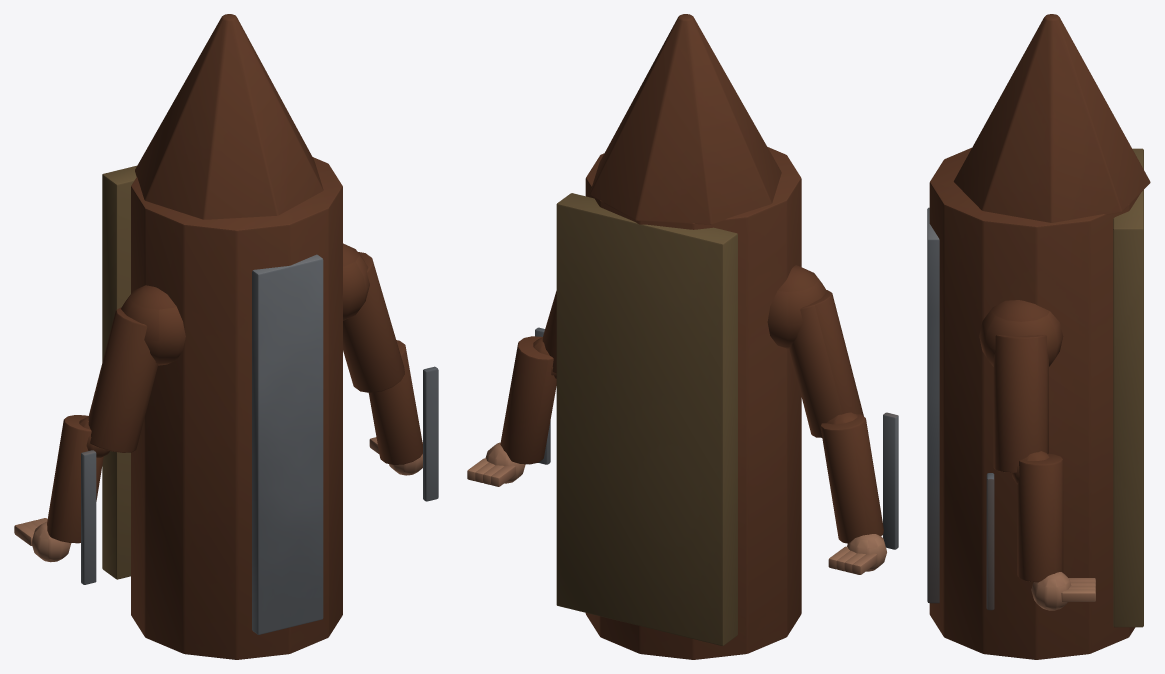
The model's file is unit_royal_spymaster.fbx.
The picture shows the model from 3 angles, left to right: view 1: azimuth 30°, elevation 25°; view 2: azimuth 150°, elevation 25°; view 3: azimuth 270°, elevation 25°; orthographic projection.
Parts seen in each view (by area): view 1: unit_royal_spymaster; view 2: unit_royal_spymaster; view 3: unit_royal_spymaster.
Part boxes in pixels (bbox=[...]): unit_royal_spymaster: bbox=[14, 14, 438, 659]; unit_royal_spymaster: bbox=[467, 14, 898, 659]; unit_royal_spymaster: bbox=[927, 14, 1150, 659].
Bounding box in the file's own units: 1.18 × 1.73 × 0.5824.
